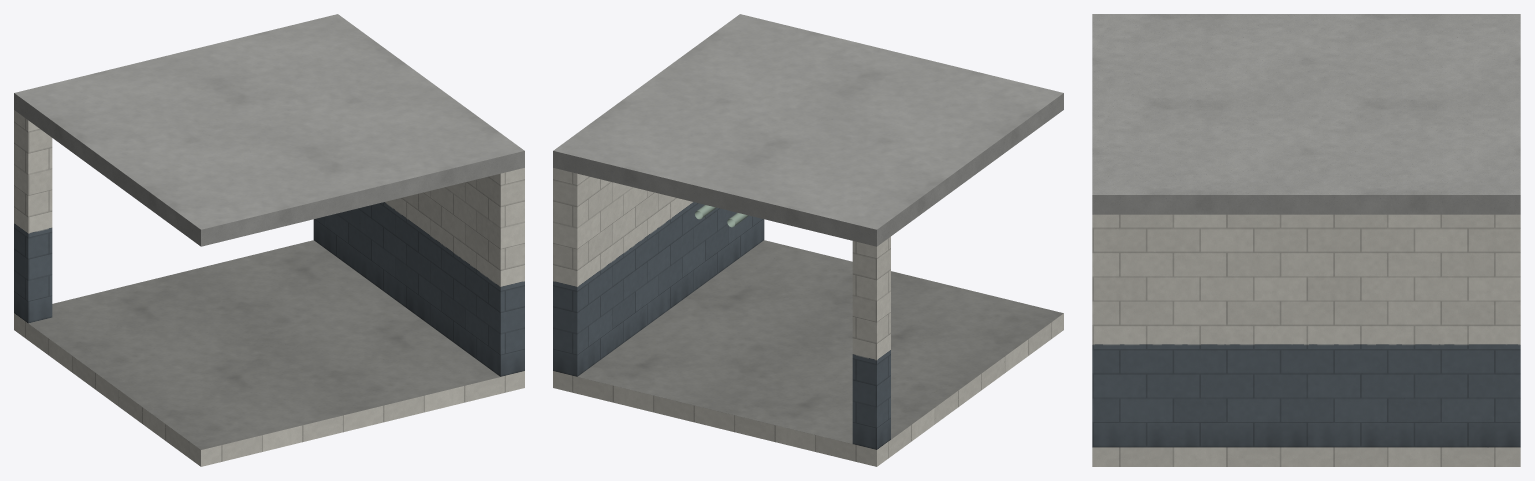
Rendered from Room_Basement_OpeningCornerR_NoLight.glb.
The picture shows the model from 3 angles, left to right: view 1: azimuth 30°, elevation 25°; view 2: azimuth 150°, elevation 25°; view 3: azimuth 270°, elevation 25°; orthographic projection. The views are drawn at different scales.
Visible parts, largest first — view 1: Room_Basement_OpeningCornerR_NoLight, Room_Basement_OpeningCornerR_NoLight_Ceiling; view 2: Room_Basement_OpeningCornerR_NoLight, Room_Basement_OpeningCornerR_NoLight_Ceiling; view 3: Room_Basement_OpeningCornerR_NoLight, Room_Basement_OpeningCornerR_NoLight_Ceiling.
Boxes of the visible parts, bbox=[...] form: Room_Basement_OpeningCornerR_NoLight: bbox=[14, 110, 524, 466]; Room_Basement_OpeningCornerR_NoLight_Ceiling: bbox=[14, 14, 524, 246]; Room_Basement_OpeningCornerR_NoLight: bbox=[553, 168, 1063, 466]; Room_Basement_OpeningCornerR_NoLight_Ceiling: bbox=[553, 14, 1063, 246]; Room_Basement_OpeningCornerR_NoLight: bbox=[1092, 214, 1520, 466]; Room_Basement_OpeningCornerR_NoLight_Ceiling: bbox=[1092, 14, 1520, 214].
Bounding box in the file's own units: 4 × 2.8 × 4.
5 materials, 3 textured.
